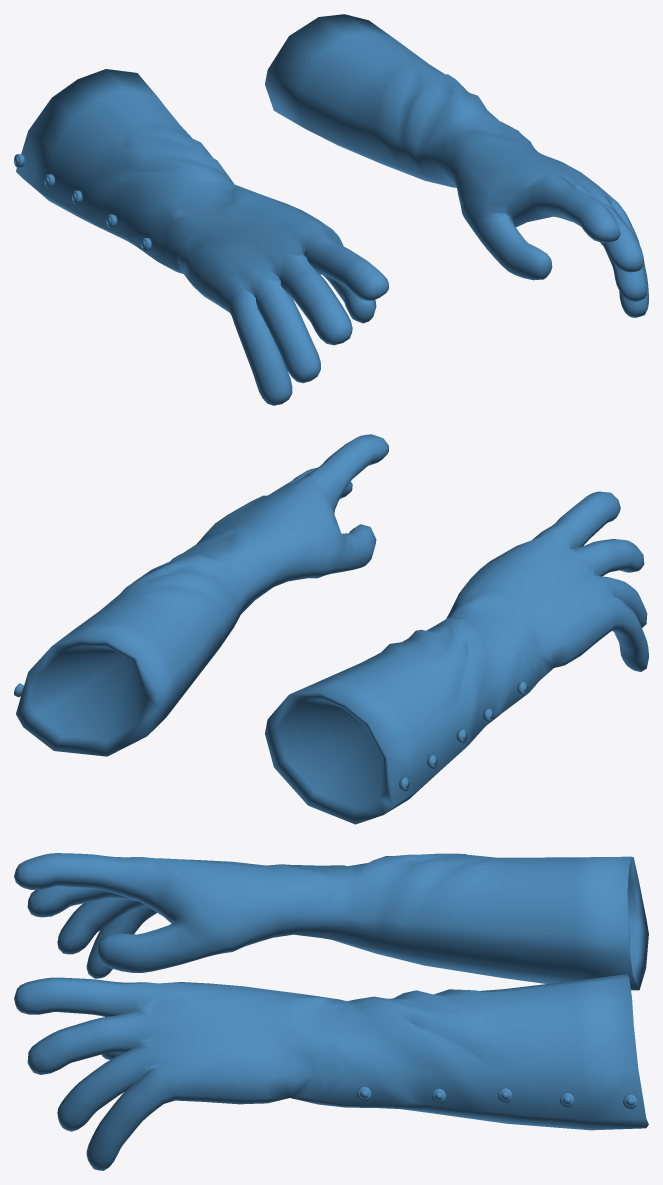
Rendered from NewGloves.obj.
The picture shows the model from 3 angles, top to bottom: view 1: azimuth 30°, elevation 25°; view 2: azimuth 150°, elevation 25°; view 3: azimuth 270°, elevation 25°; orthographic projection. The views are drawn at different scales.
Parts seen in each view (by area): view 1: 10137_DressGloves_v4_L3.001, 10137_DressGloves_v4_L3.002; view 2: 10137_DressGloves_v4_L3.001, 10137_DressGloves_v4_L3.002; view 3: 10137_DressGloves_v4_L3.002, 10137_DressGloves_v4_L3.001.
Boxes of the visible parts, left/top/right/bottom form: 10137_DressGloves_v4_L3.001: left=14, top=69, right=388, bottom=405; 10137_DressGloves_v4_L3.002: left=265, top=14, right=648, bottom=317; 10137_DressGloves_v4_L3.001: left=265, top=491, right=648, bottom=824; 10137_DressGloves_v4_L3.002: left=14, top=434, right=388, bottom=756; 10137_DressGloves_v4_L3.002: left=14, top=974, right=648, bottom=1170; 10137_DressGloves_v4_L3.001: left=14, top=853, right=648, bottom=990.
Size of the model in its own units: 0.3267 by 0.1137 by 0.418.
